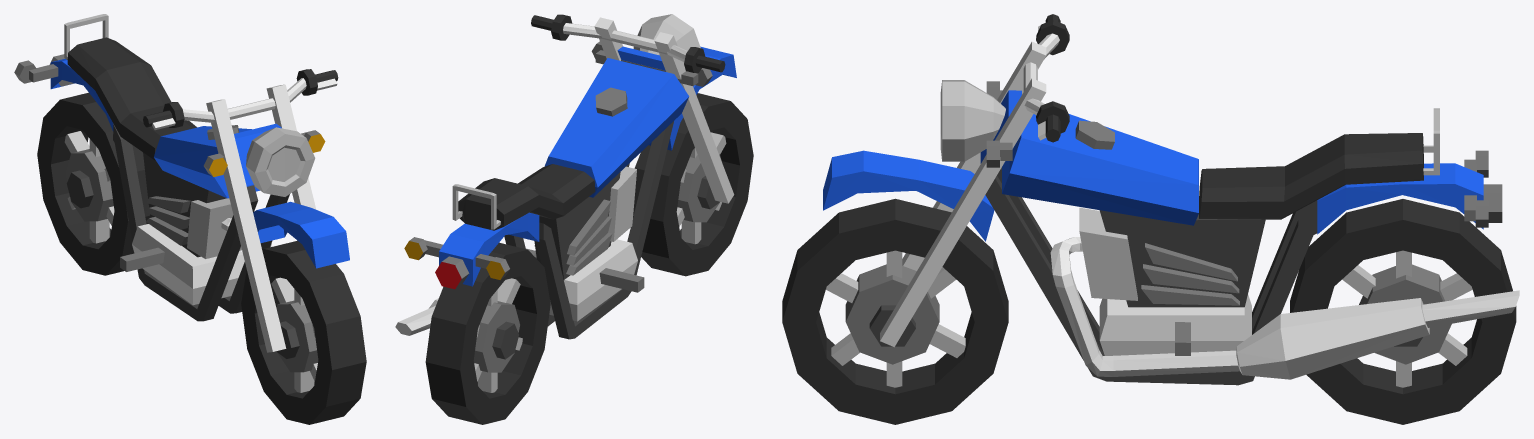
The model's file is Motorbike.FBX.
The picture shows the model from 3 angles, left to right: view 1: azimuth 30°, elevation 25°; view 2: azimuth 150°, elevation 25°; view 3: azimuth 270°, elevation 25°; orthographic projection. The views are drawn at different scales.
Visible parts, largest first — view 1: Motorbike; view 2: Motorbike; view 3: Motorbike.
Boxes of the visible parts, box(x1,y1,x2,y2) form: Motorbike: box(14, 14, 366, 424); Motorbike: box(395, 14, 753, 424); Motorbike: box(782, 14, 1519, 424).
Size of the model in its own units: 0.9918 by 1.41 by 2.69.
1 material, 1 textured.
